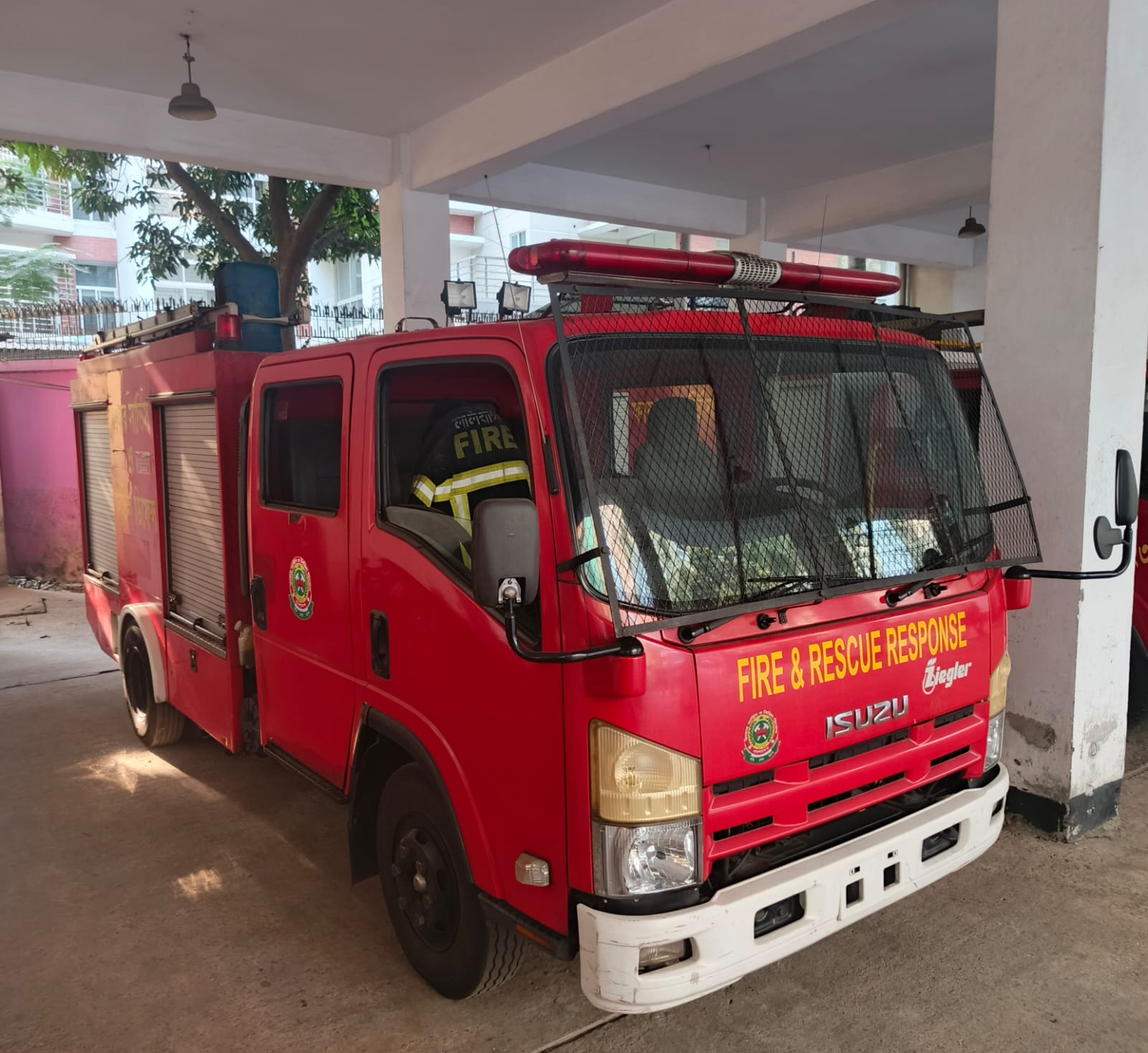Fire truck: (48, 211, 1148, 1024)
